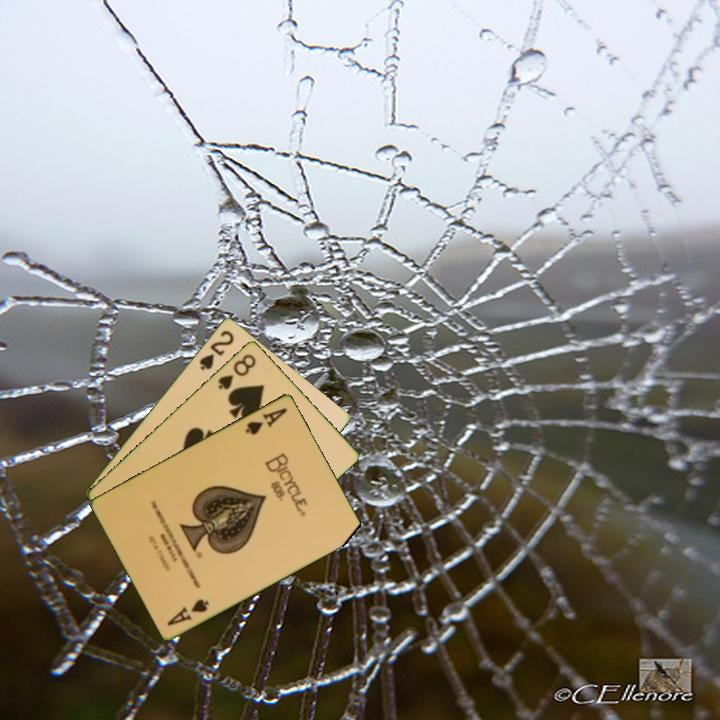2s: (196, 326, 237, 373)
8s: (214, 350, 259, 392)
As: (241, 404, 290, 437), (163, 595, 212, 628)
